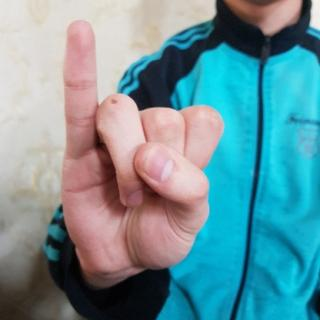MEEM: (55, 16, 229, 285)
